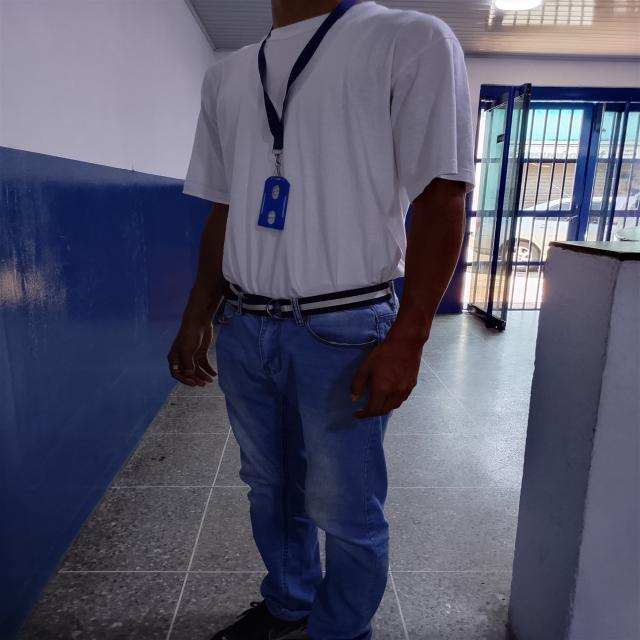carnet: (257, 176, 290, 230)
